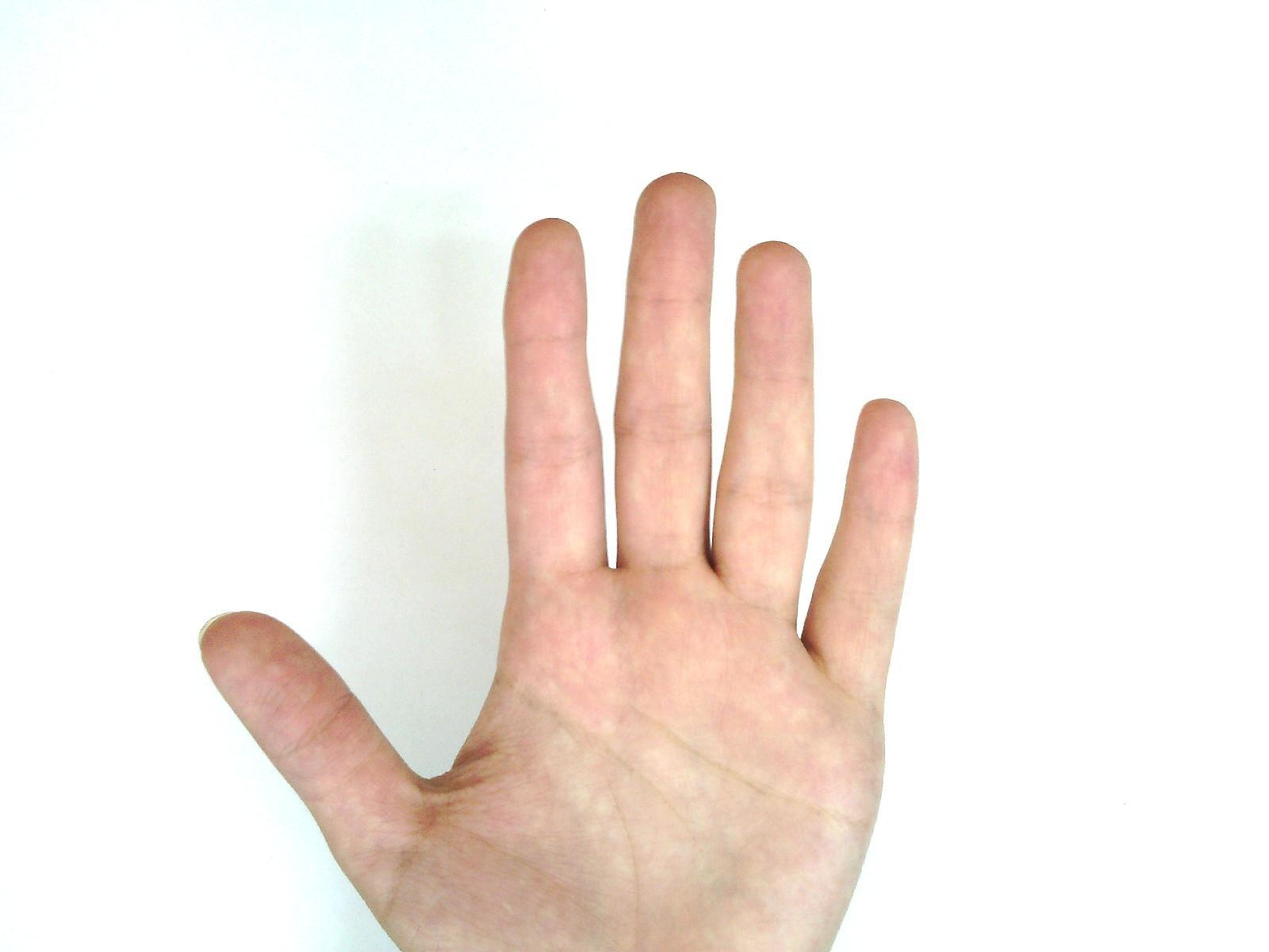open_palm: (197, 171, 923, 952)
